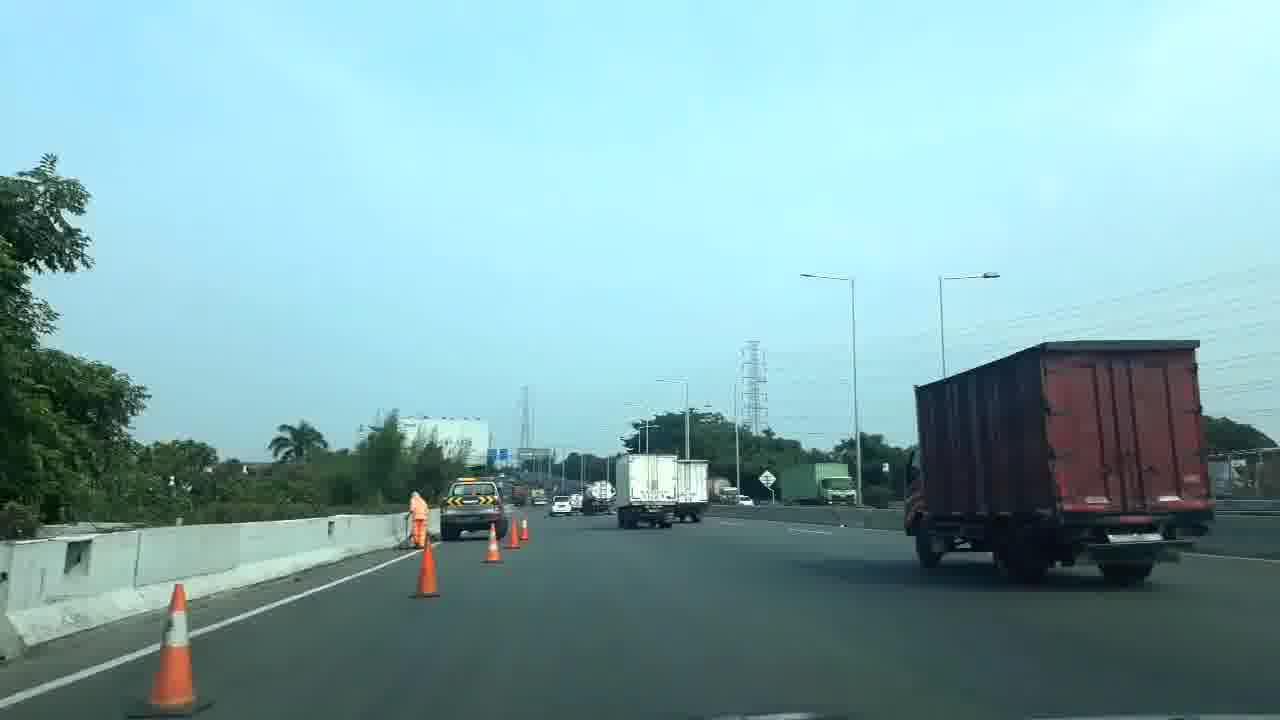plate_positive: (1106, 528, 1165, 545)
